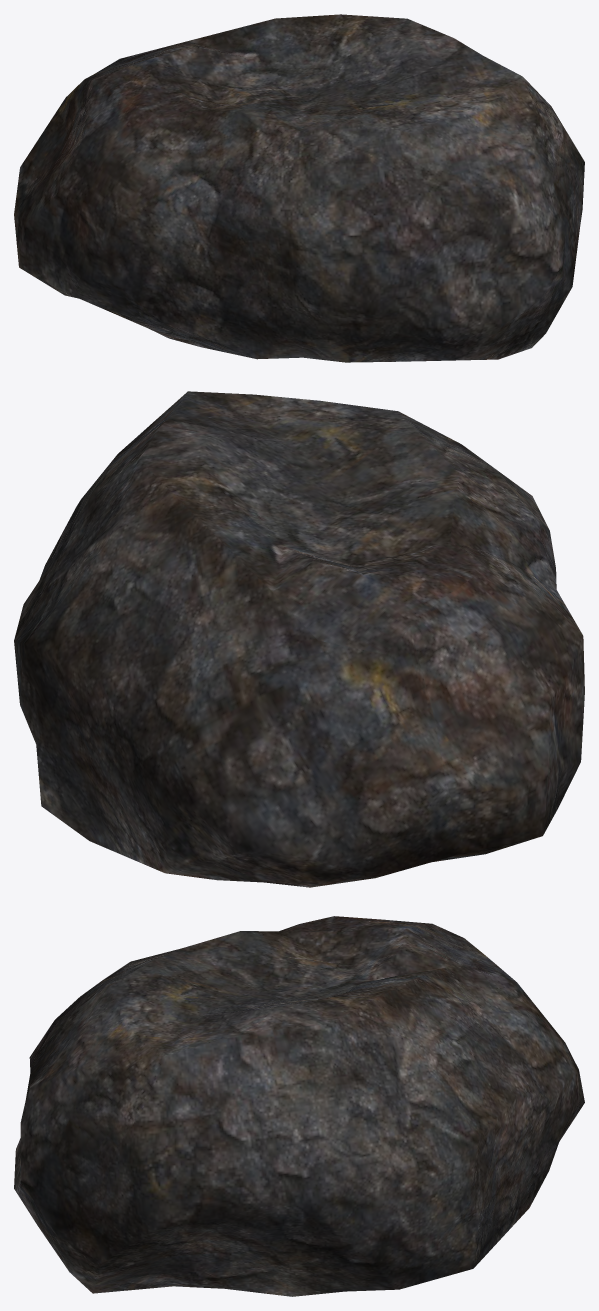
The model's file is Rock.glb.
3 renders of one model, top to bottom at view 1: azimuth 30°, elevation 25°; view 2: azimuth 150°, elevation 25°; view 3: azimuth 270°, elevation 25°, orthographic. The views are drawn at different scales.
Parts seen in each view (by area): view 1: rock_02; view 2: rock_02; view 3: rock_02.
Part boxes in pixels (x1=…): rock_02: x1=14, y1=14, x2=584, y2=362; rock_02: x1=14, y1=391, x2=584, y2=887; rock_02: x1=14, y1=916, x2=584, y2=1296.
Size of the model in its own units: 0.8143 by 0.4592 by 0.8426.
1 material, 1 textured.
